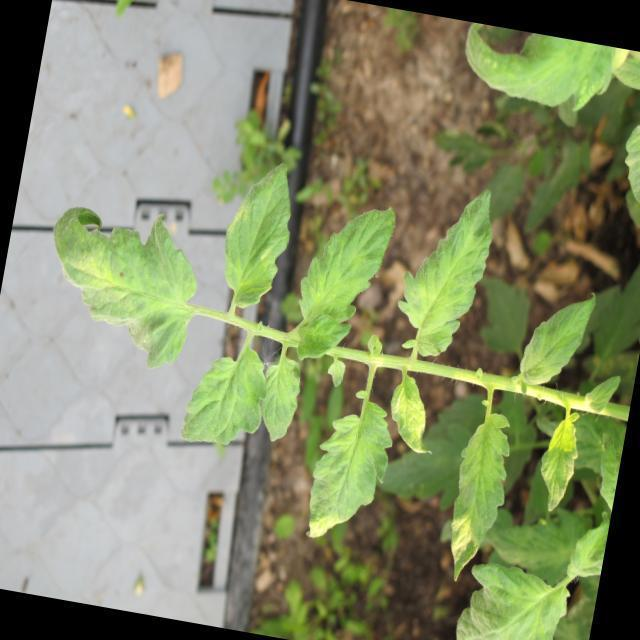Mosaic Virus: (23, 184, 211, 373), (385, 183, 509, 370), (292, 192, 402, 368), (212, 155, 300, 320), (300, 388, 389, 547), (437, 413, 517, 584), (173, 336, 268, 458), (509, 284, 602, 392), (530, 401, 586, 523), (386, 373, 440, 452), (257, 360, 303, 452)
